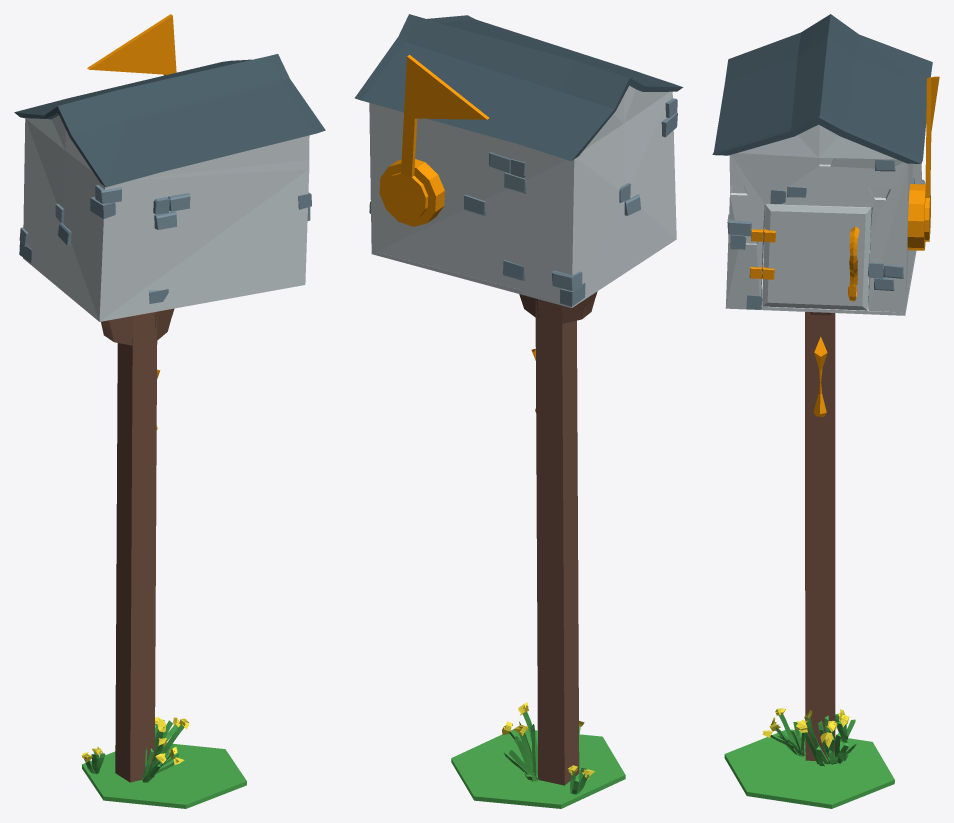
The model's file is castle_mailbox.glb.
3 renders of one model, left to right at view 1: azimuth 30°, elevation 25°; view 2: azimuth 150°, elevation 25°; view 3: azimuth 270°, elevation 25°, orthographic. The views are drawn at different scales.
Parts seen in each view (by area): view 1: group346439750_29fa4b, group346439750_0a59bf, group1018199070, group2098010904, group62313567, group1285827525; view 2: group346439750_29fa4b, group346439750_0a59bf, group1018199070, group2098010904, group62313567; view 3: group346439750_0a59bf, group346439750_29fa4b, group1018199070, group1078849932, group2098010904, group62313567, group1481301515, group1004730471.
Boxes of the visible parts, x1,y1,x2,y2 form: group346439750_29fa4b: (23,115,309,321); group346439750_0a59bf: (14,54,325,187); group1018199070: (115,312,157,782); group2098010904: (82,743,246,808); group62313567: (87,14,176,75); group1285827525: (101,316,133,345); group346439750_29fa4b: (369,85,676,307); group346439750_0a59bf: (354,14,683,160); group1018199070: (535,299,579,785); group2098010904: (451,729,625,808); group62313567: (379,55,489,226); group346439750_0a59bf: (712,14,932,163); group346439750_29fa4b: (726,124,921,312); group1018199070: (805,312,835,760); group1078849932: (762,204,871,310); group2098010904: (724,729,894,808); group62313567: (907,76,939,250); group1481301515: (725,245,916,315); group1004730471: (848,226,859,301).
Bounding box in the file's own units: 13.16 × 40 × 11.3.
